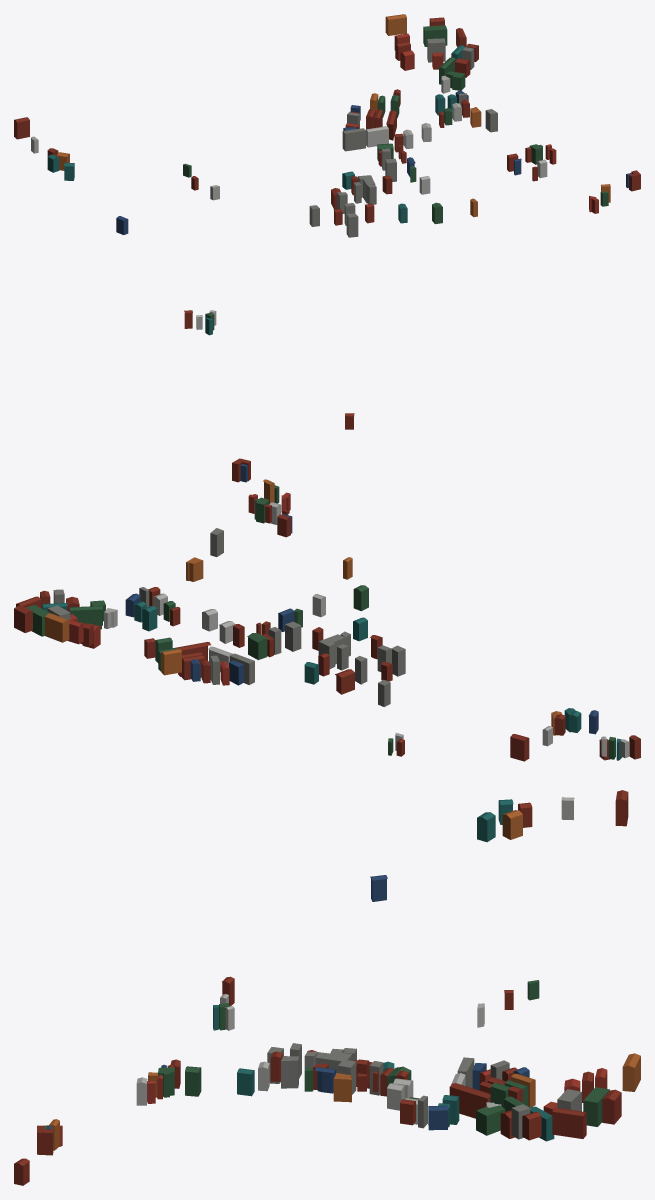
File: near-16-54722-29745.22f492bd.glb
The picture shows the model from 3 angles, top to bottom: view 1: azimuth 30°, elevation 25°; view 2: azimuth 150°, elevation 25°; view 3: azimuth 270°, elevation 25°; orthographic projection. The views are drawn at different scales.
Bounding box in the file's own units: 593 × 263 × 487.
